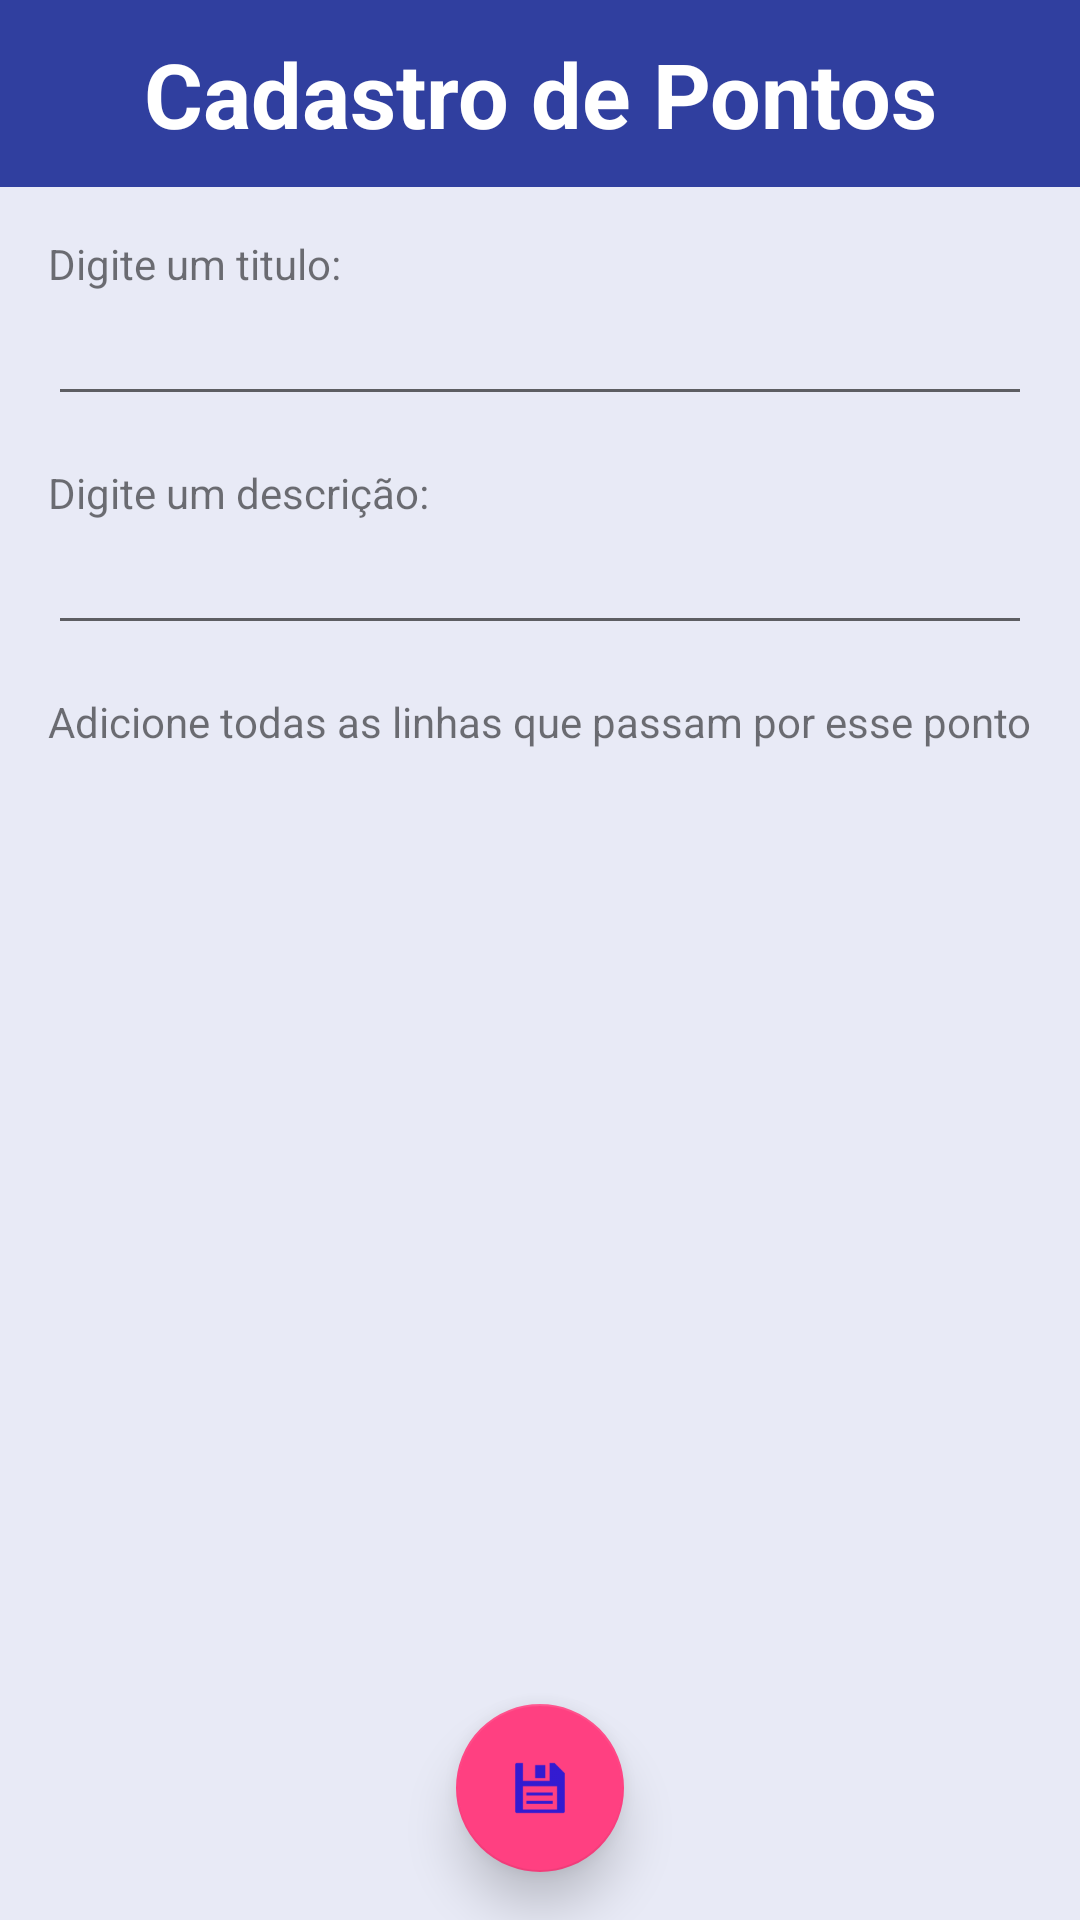

Named icons in this screenshot (1080 x 1920) and their bounding boxes, (x1, y1, x2, y2):
save: (456, 1704, 624, 1872)
